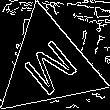M_SE: (16, 32, 82, 100)
